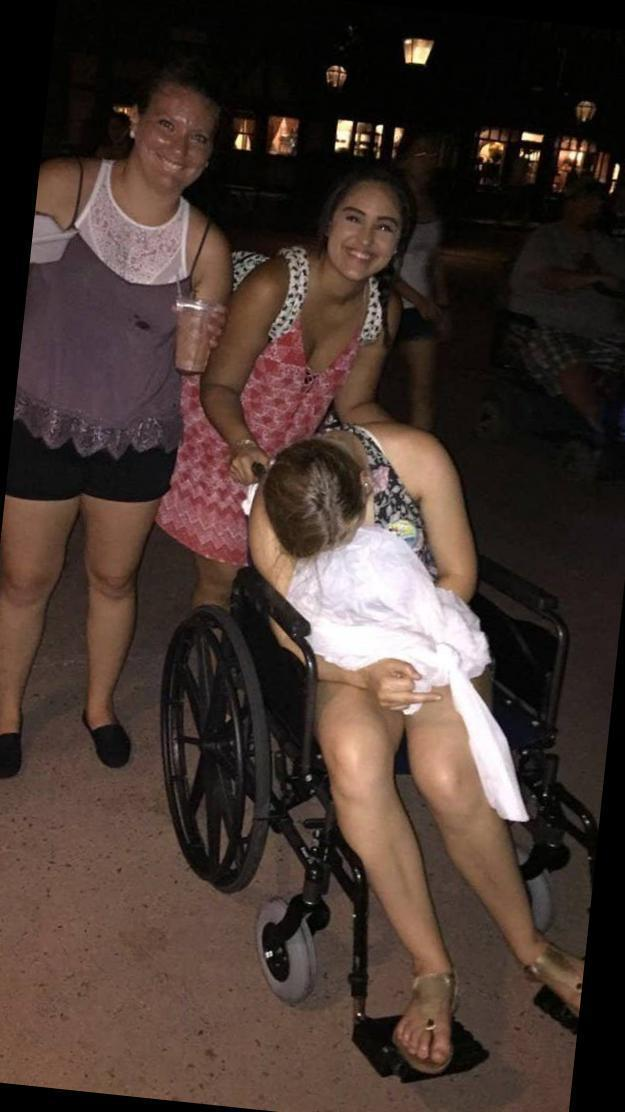Drunk: (136, 93, 210, 195), (333, 181, 403, 279)
